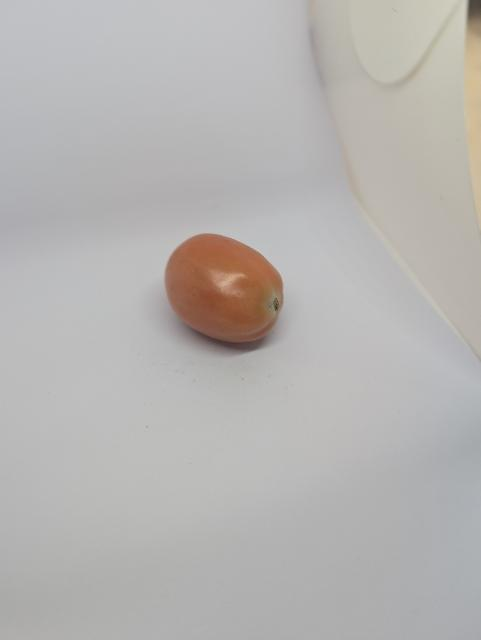turning: (162, 230, 289, 348)
